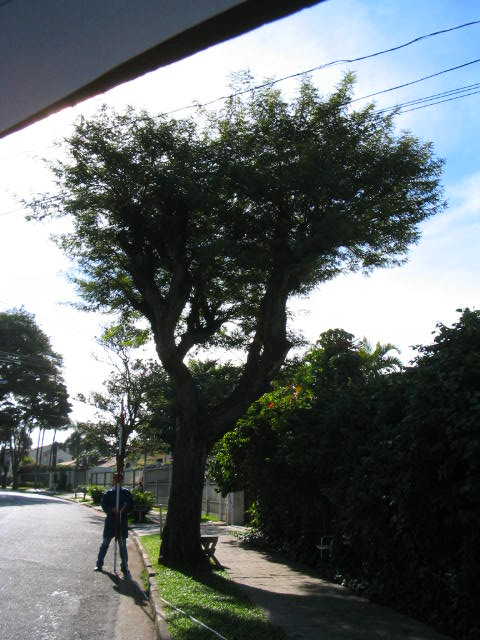crown: (16, 72, 447, 338)
stem: (150, 413, 230, 562)
stick: (107, 396, 133, 568)
tree: (14, 71, 449, 562), (1, 305, 73, 488)
